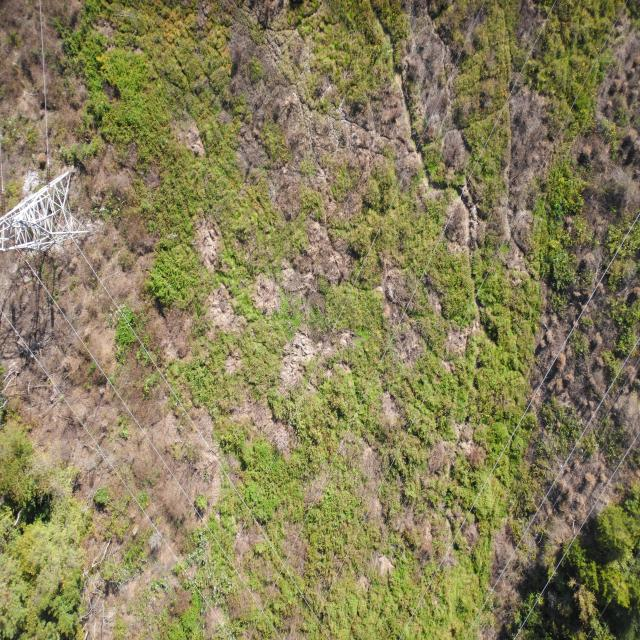Area of Interest: (5, 430, 91, 630), (526, 501, 630, 623)
